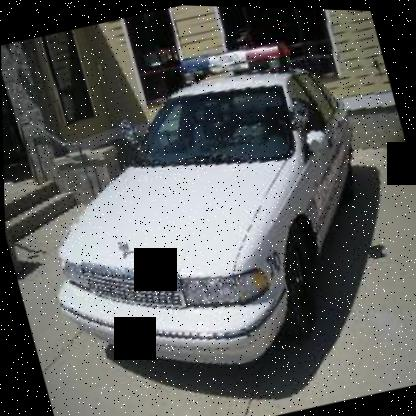emergency: (12, 0, 415, 414)
